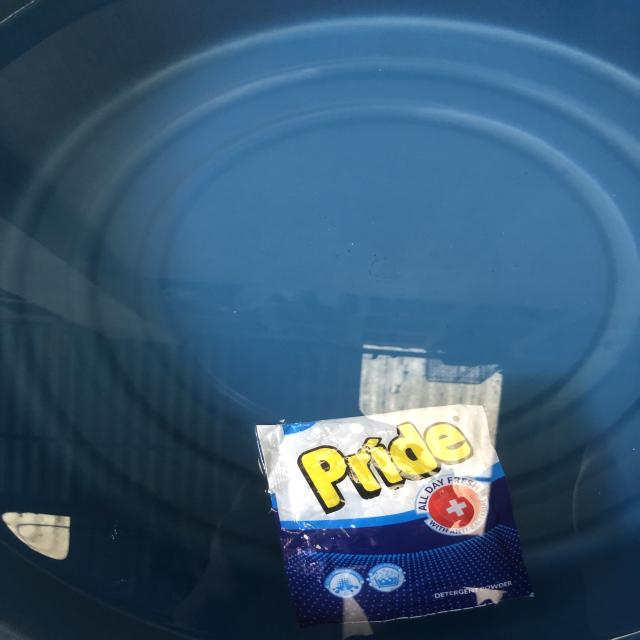Plastic Wrapper: (231, 392, 565, 640)
